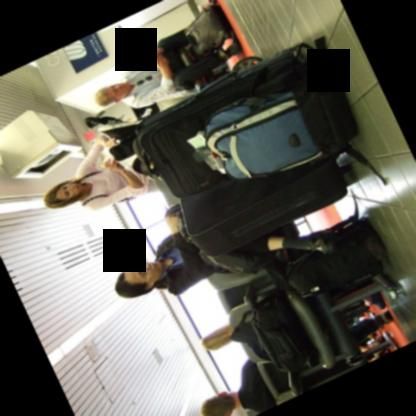backpack: (197, 34, 357, 180), (285, 200, 390, 295), (82, 170, 135, 204)
handbag: (185, 0, 235, 54), (200, 250, 264, 273)
suitcase: (130, 47, 294, 197), (174, 154, 347, 260), (250, 294, 316, 370)
